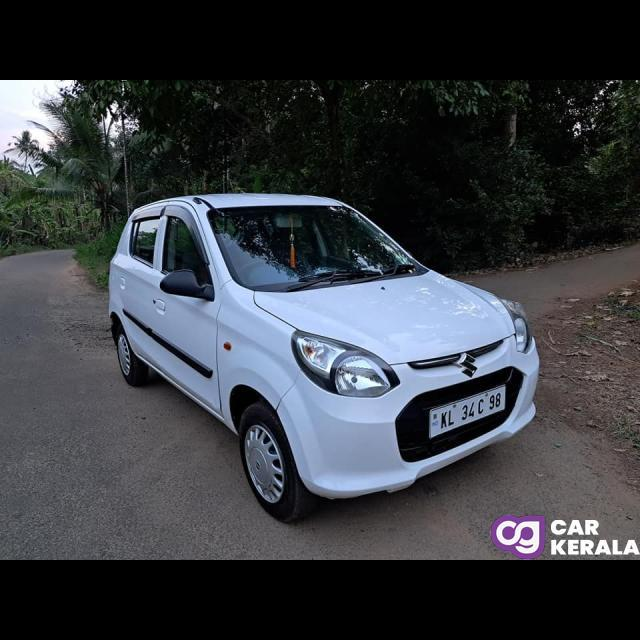number-plate: (428, 385, 502, 440)
vehicles: (110, 194, 535, 523)
